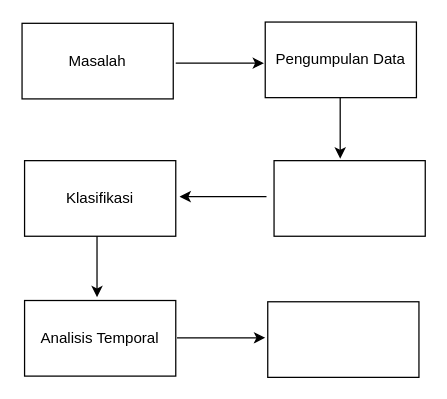
Image size: 447x399. Some labels were removed from this diagram. The box of each missing label's shape, as (x1, y1, x2, y2) in pixels:
Hasil: (266, 301, 419, 377)
Processing Data: (273, 159, 425, 236)
